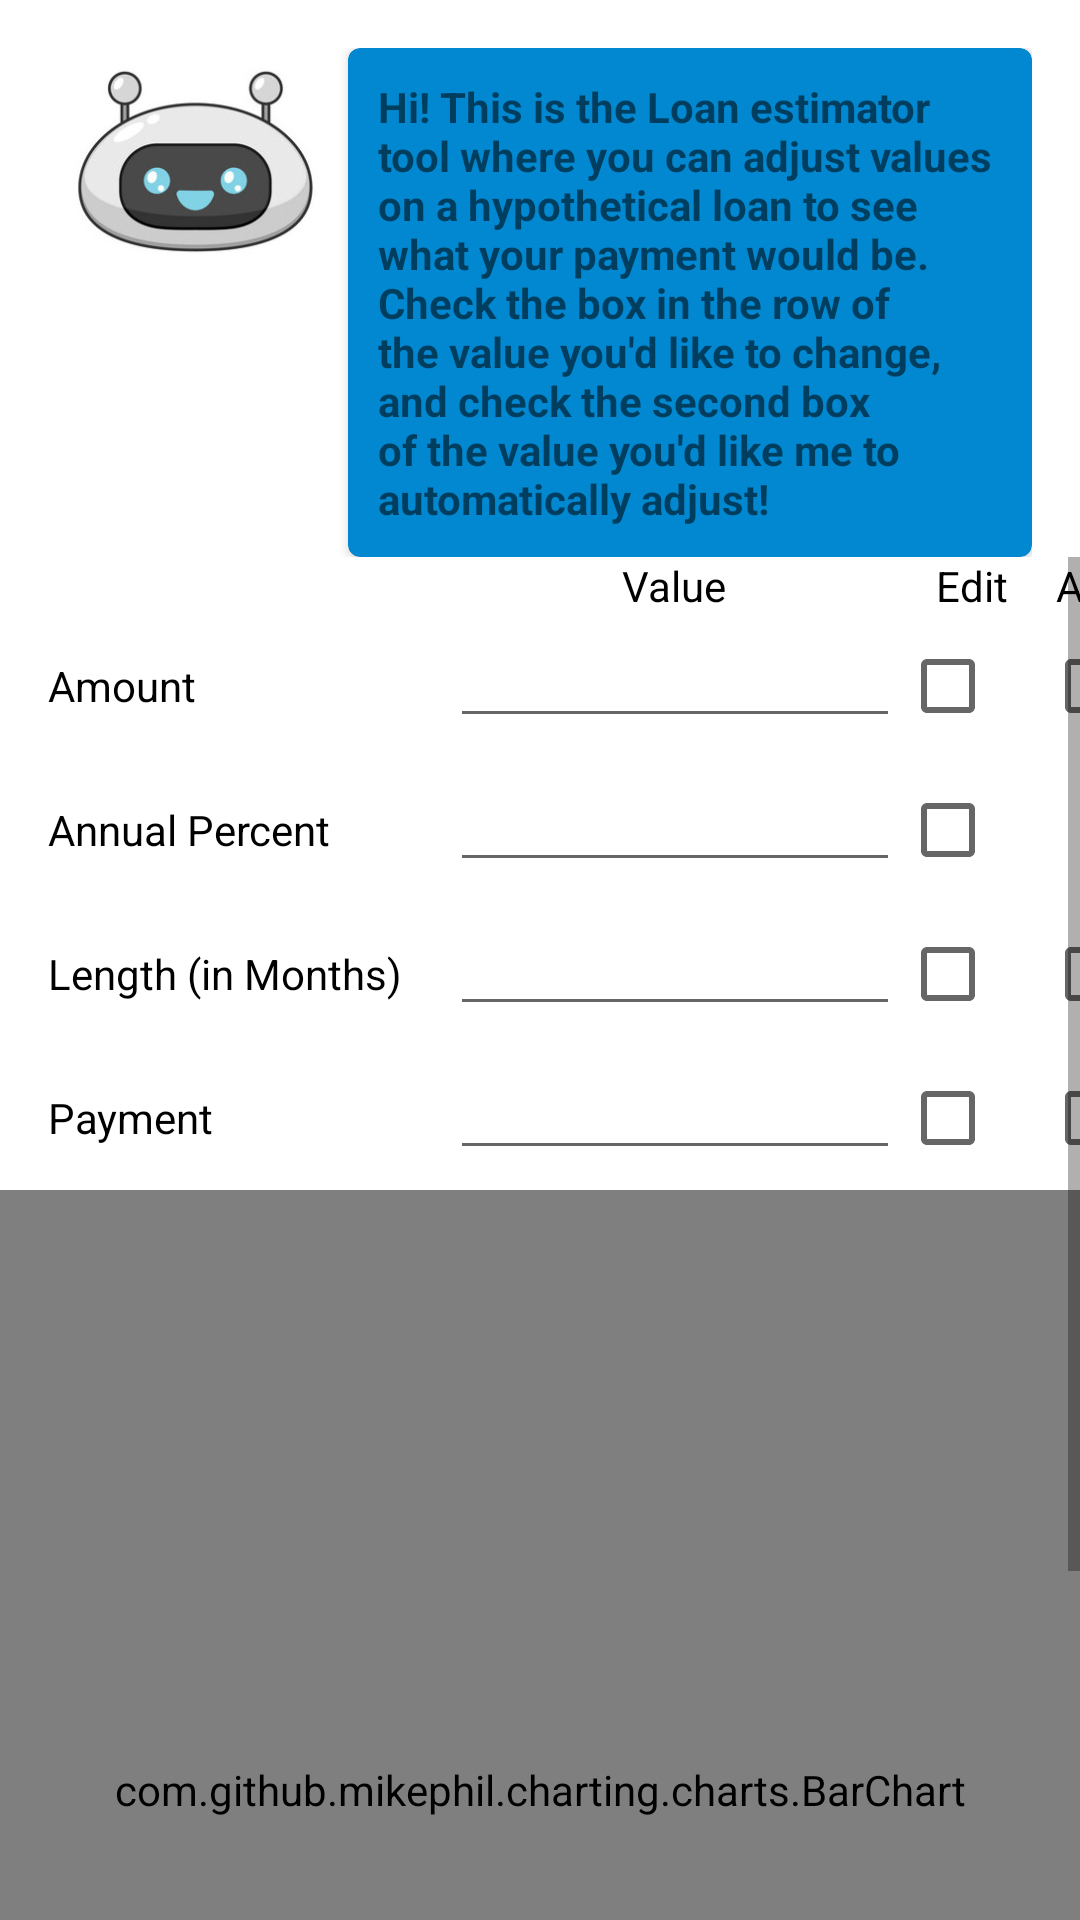

Screen size 1080 × 1920. Icon name, then its box in pixels as {"left": x1, "top": y1, "right": x2, "bottom": y2}:
Brobot's beautiful face: {"left": 78, "top": 71, "right": 313, "bottom": 252}
